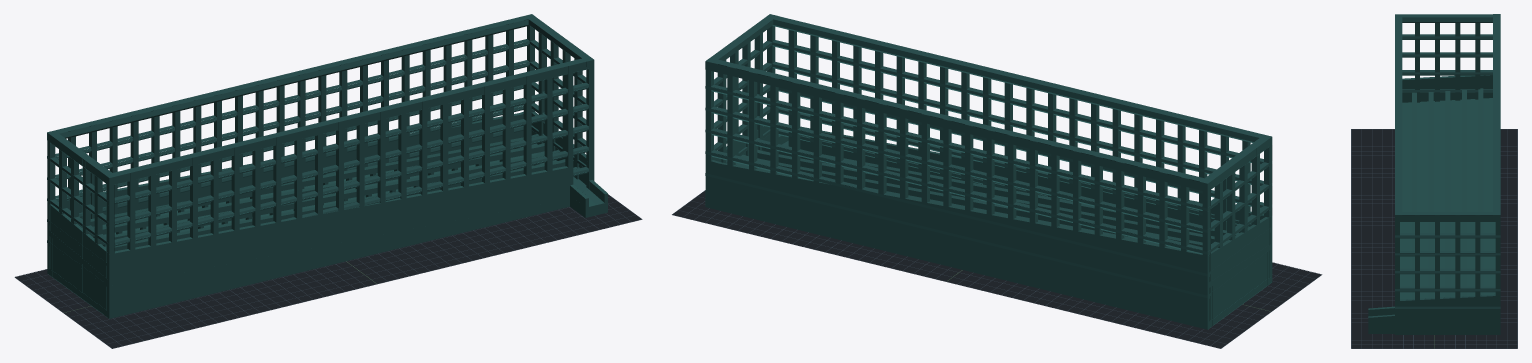
The picture shows the model from 3 angles, left to right: view 1: azimuth 30°, elevation 25°; view 2: azimuth 150°, elevation 25°; view 3: azimuth 270°, elevation 25°; orthographic projection. The views are drawn at different scales.
Visible parts, largest first — view 1: static:pbr, static; view 2: static:pbr, static; view 3: static:pbr, static.
Boxes of the visible parts, left/top/right/bottom form: static:pbr: left=47, top=14, right=607, bottom=318; static: left=14, top=194, right=642, bottom=348; static:pbr: left=705, top=14, right=1272, bottom=329; static: left=672, top=190, right=1322, bottom=348; static:pbr: left=1368, top=14, right=1500, bottom=334; static: left=1351, top=129, right=1517, bottom=348.
Size of the model in its own units: 0.2502 by 0.0662 by 0.0802.
